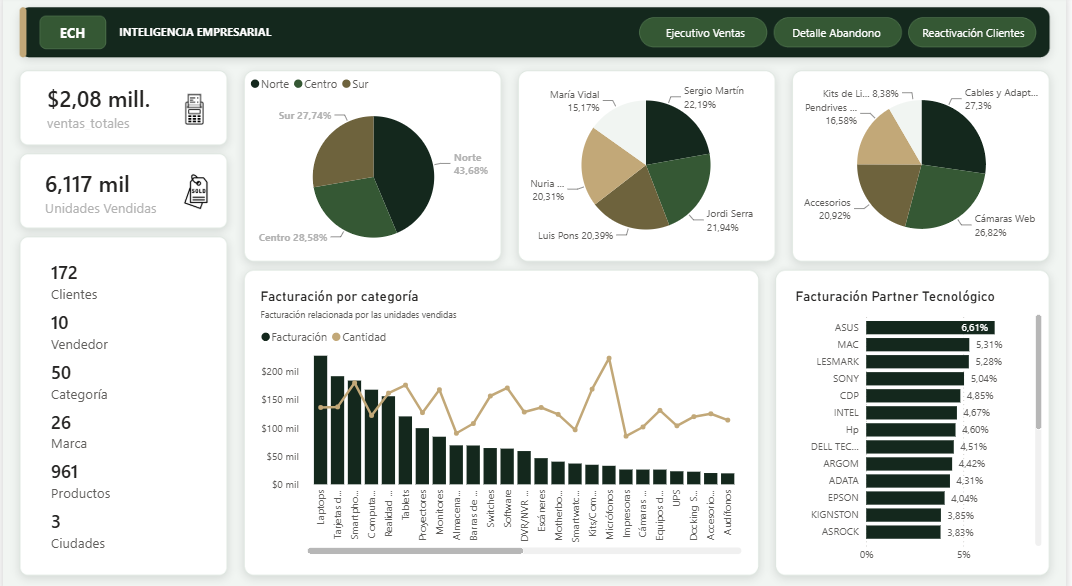

This screenshot's page, from the dashboard's own definition file:
{"tool":"powerbi","page":{"name":"Cuadro Mando Eurocomplice S.L","canvas":[1280,720],"ordinal":0},"visuals":[{"type":"textbox","box":[134.3,28.6,210,37.1],"z":0},{"type":"pieChart","fields":{"Category":["Analisis_Ventas.Ubicacion"],"Y":["Sum(Analisis_Ventas.Facturacion)"]},"box":[297.4,90.3,297.4,226.4],"z":1000},{"type":"pieChart","fields":{"Category":["Analisis_Ventas.Vendedor"],"Y":["Sum(Analisis_Ventas.Facturacion)"]},"box":[626.1,90.3,296.2,226.4],"z":2000},{"type":"pieChart","fields":{"Category":["Analisis_Ventas.categorianombre"],"Y":["Sum(Analisis_Ventas.Facturacion)"]},"box":[957.2,90.3,297.4,225.2],"z":3000},{"type":"lineClusteredColumnComboChart","title":"Facturación por categoría","fields":{"Category":["Analisis_Ventas.categorianombre"],"Y":["Sum(Analisis_Ventas.Facturacion)"],"Y2":["Sum(Analisis_Ventas.Cantidad)"]},"box":[290.2,331.1,618.9,361.2],"z":4000},{"type":"cardVisual","fields":{"Data":["Count(Analisis_Ventas.Cliente)","Count(Analisis_Ventas.Vendedor)","Count(Analisis_Ventas.categorianombre)","Count(Analisis_Ventas.marcanombre)","Count(Analisis_Ventas.codigoarticulo)","Count(Analisis_Ventas.Ciudades)"]},"box":[28.6,300,228.6,391.4],"z":5000},{"type":"cardVisual","fields":{"Data":["Sum(Analisis_Ventas.Cantidad)"]},"box":[21.4,192.9,245.7,87.1],"z":5500,"group":"g1"},{"type":"cardVisual","fields":{"Data":["Medidas_base_facturacion.ventas_totales"]},"box":[24.3,90,238.6,87.1],"z":6000,"group":"g2"},{"type":"clusteredBarChart","title":"Facturación Partner Tecnológico","fields":{"Category":["Analisis_Ventas.marcanombre"],"Y":["Sum(Analisis_Ventas.Facturacion)"]},"box":[934.3,331.1,321.5,360],"z":6000},{"type":"image","box":[209.7,108.3,42.2,55.7],"z":6501,"group":"g2"},{"type":"image","box":[210,212.9,42.9,44.3],"z":9000,"group":"g1"},{"type":"textbox","box":[51.4,28.6,64.3,37.1],"z":12000},{"type":"group","id":"g1","title":"Grupo 2","box":[21.4,192.9,245.7,87.1],"z":14000},{"type":"group","id":"g2","title":"Grupo 1","box":[24.3,90,238.6,87.1],"z":14001},{"type":"shape","title":"Ventas Globales","box":[768.2,28.1,155.2,32.1],"z":14008},{"type":"shape","title":"Ventas Globales","box":[926.1,28.1,155.2,32.1],"z":14009},{"type":"shape","title":"Ventas Globales","box":[1090.7,28.1,155.2,32.1],"z":14010}]}

Visuals, with their boxes in screenshot pixels (x1, y1, x2, y2), scaled from the page's 1280x720 canvas onto the 1072x586 screenshot:
textbox: left=112, top=23, right=288, bottom=53
pieChart - Analisis_Ventas.Ubicacion x Sum(Analisis_Ventas.Facturacion): left=249, top=73, right=498, bottom=258
pieChart - Analisis_Ventas.Vendedor x Sum(Analisis_Ventas.Facturacion): left=524, top=73, right=772, bottom=258
pieChart - Analisis_Ventas.categorianombre x Sum(Analisis_Ventas.Facturacion): left=802, top=73, right=1051, bottom=257
"Facturación por categoría" lineClusteredColumnComboChart: left=243, top=269, right=761, bottom=563
cardVisual - Count(Analisis_Ventas.Cliente) x Count(Analisis_Ventas.Vendedor): left=24, top=244, right=215, bottom=563
cardVisual - Sum(Analisis_Ventas.Cantidad): left=18, top=157, right=224, bottom=228
cardVisual - Medidas_base_facturacion.ventas_totales: left=20, top=73, right=220, bottom=144
"Facturación Partner Tecnológico" clusteredBarChart: left=782, top=269, right=1052, bottom=562
image: left=176, top=88, right=211, bottom=133
image: left=176, top=173, right=212, bottom=209
textbox: left=43, top=23, right=97, bottom=53
"Grupo 2" group: left=18, top=157, right=224, bottom=228
"Grupo 1" group: left=20, top=73, right=220, bottom=144
"Ventas Globales" shape: left=643, top=23, right=773, bottom=49
"Ventas Globales" shape: left=776, top=23, right=906, bottom=49
"Ventas Globales" shape: left=913, top=23, right=1043, bottom=49
